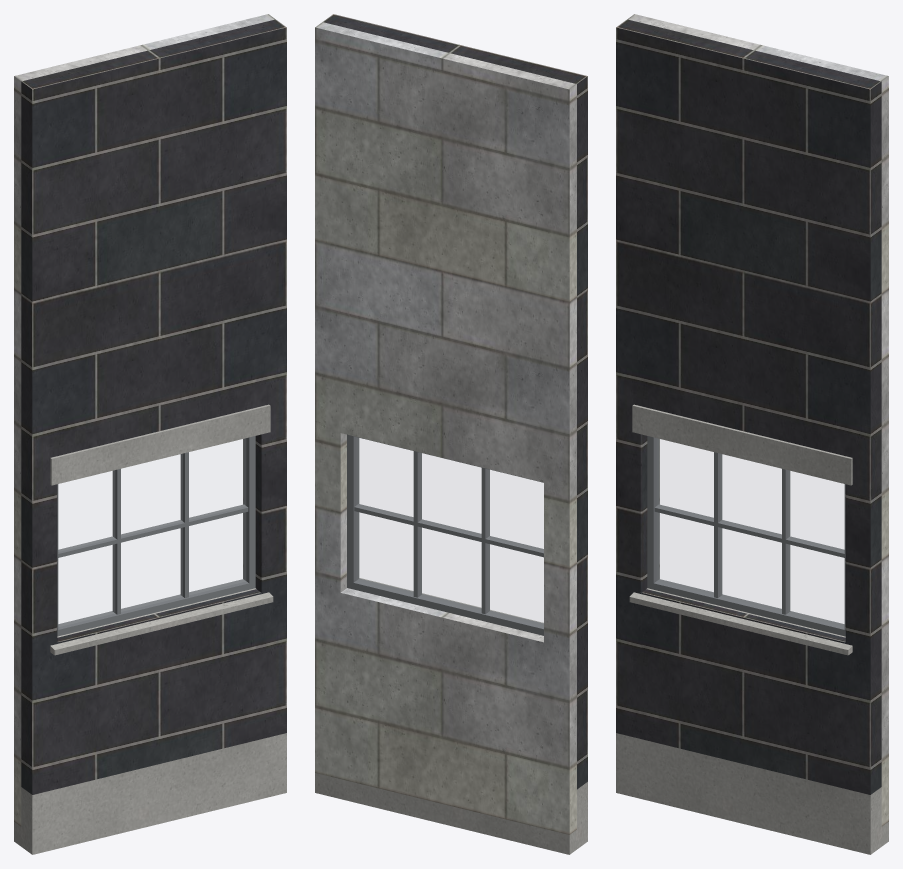
File: k_win.glb
3 renders of one model, left to right at view 1: azimuth 30°, elevation 25°; view 2: azimuth 150°, elevation 25°; view 3: azimuth 330°, elevation 25°, orthographic.
Parts seen in each view (by area): view 1: k_win_block_d, k_win_concrete, folha_glass, k_win_block_l, k_win_steel_d, folha_steel_d; view 2: k_win_block_l, folha_glass, k_win_block_d, k_win_concrete, k_win_steel_d, folha_steel_d; view 3: k_win_block_d, k_win_concrete, folha_glass, k_win_block_l, k_win_steel_d, folha_steel_d.
Part boxes in pixels (<box>): k_win_block_d: <box>21,19,286,794</box>; k_win_concrete: <box>14,404,286,854</box>; folha_glass: <box>59,439,245,626</box>; k_win_block_l: <box>14,14,275,826</box>; k_win_steel_d: <box>57,436,255,636</box>; folha_steel_d: <box>58,452,248,614</box>; k_win_block_l: <box>315,22,576,834</box>; folha_glass: <box>357,438,543,625</box>; k_win_block_d: <box>323,14,587,789</box>; k_win_concrete: <box>315,578,587,854</box>; k_win_steel_d: <box>347,434,543,635</box>; folha_steel_d: <box>354,451,543,614</box>; k_win_block_d: <box>616,19,881,794</box>; k_win_concrete: <box>616,404,888,854</box>; folha_glass: <box>657,439,843,626</box>; k_win_block_l: <box>627,14,888,826</box>; k_win_steel_d: <box>647,436,845,636</box>; folha_steel_d: <box>654,452,844,614</box>.
Size of the model in its own units: 2 by 5.75 by 0.31.
5 materials, 3 textured.
